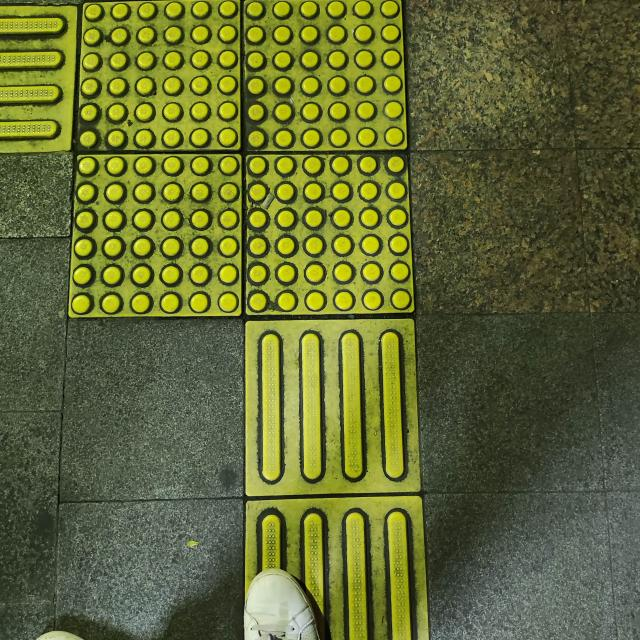kiri: (0, 0, 469, 515)
